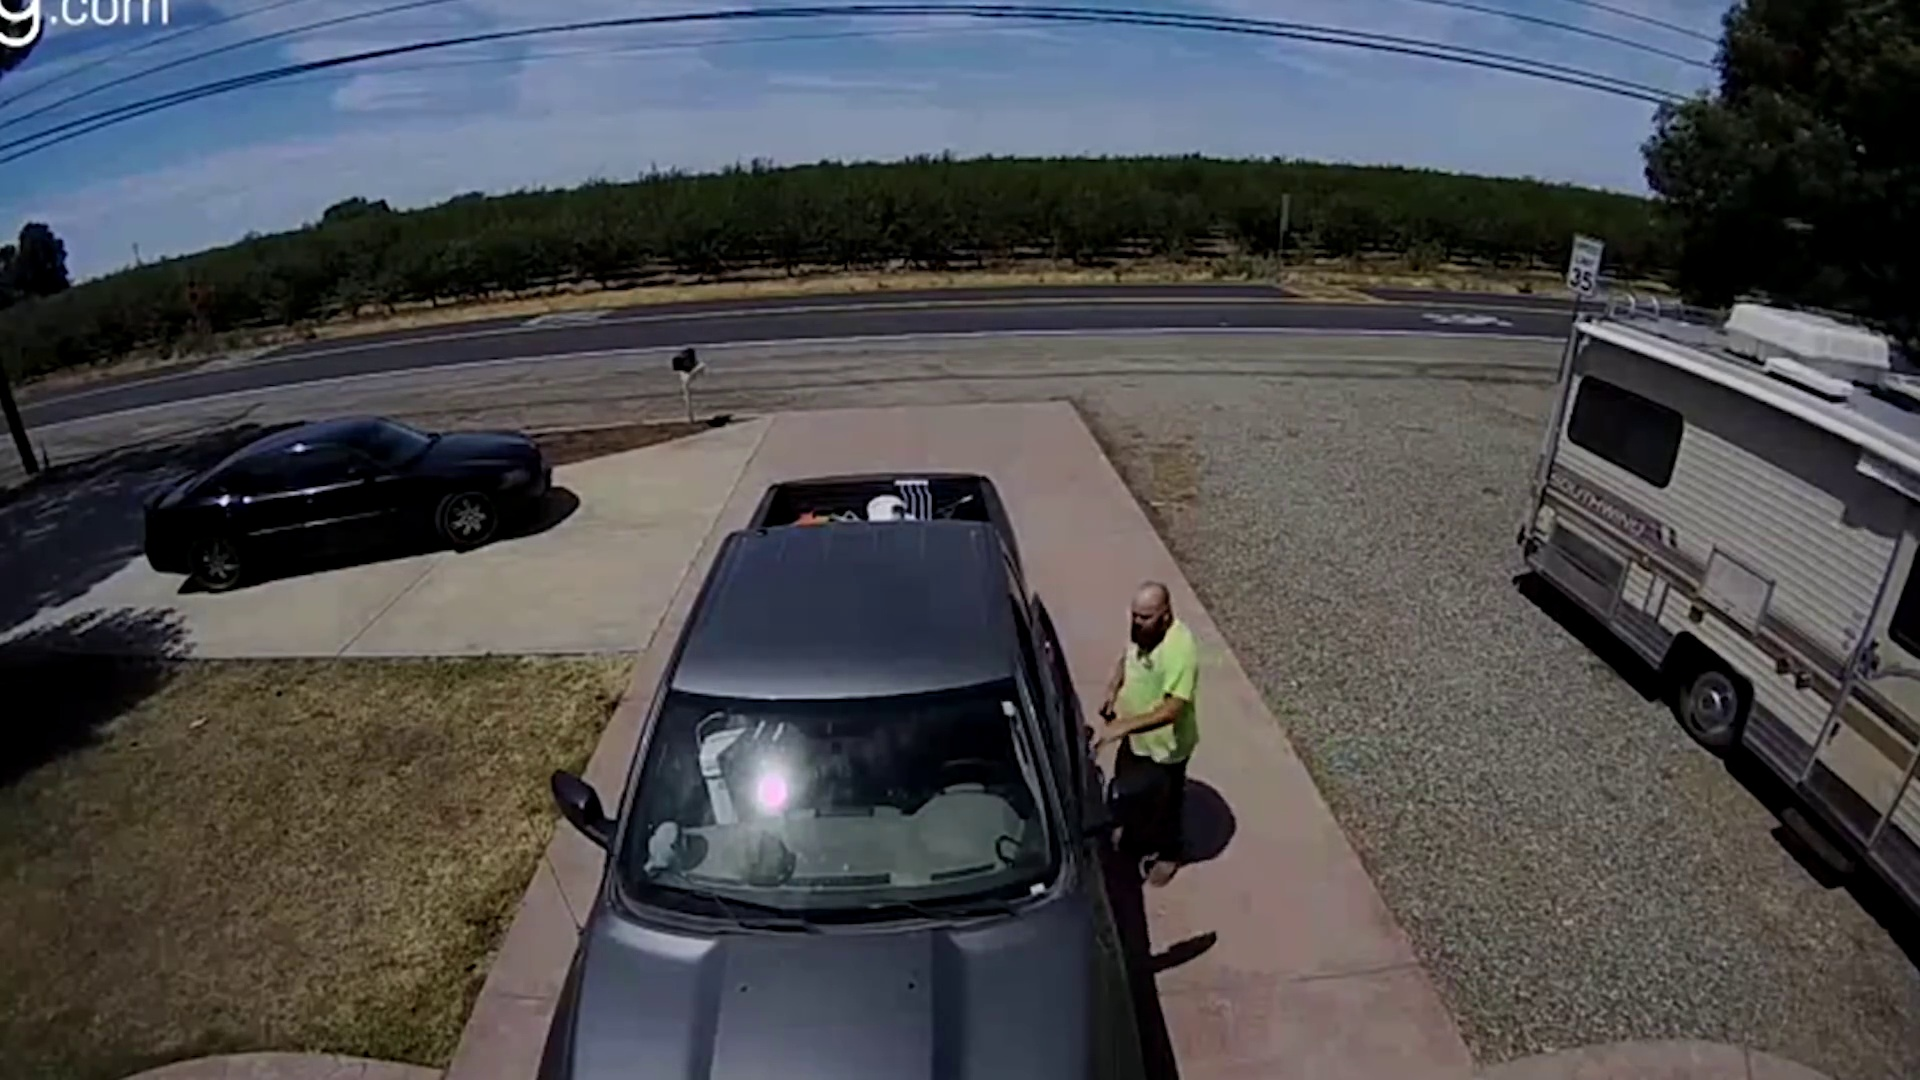face: (1129, 601, 1163, 637)
